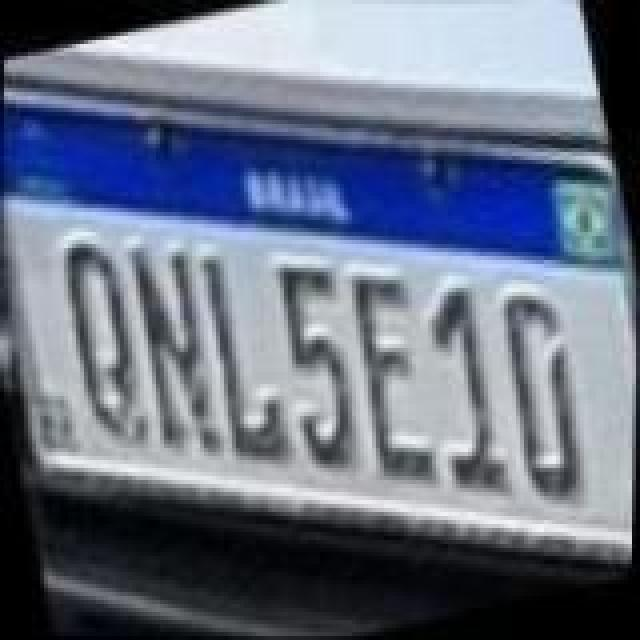1: (410, 276, 526, 508)
5: (260, 252, 376, 480)
D: (480, 276, 600, 508)
E: (332, 264, 452, 496)
L: (190, 242, 302, 470)
N: (120, 230, 236, 466)
Q: (46, 232, 158, 456)
